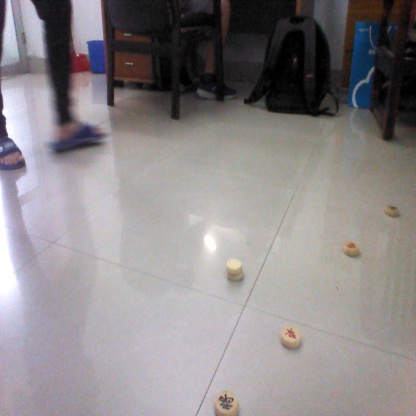chess: (381, 197, 402, 221), (215, 391, 236, 414), (224, 256, 244, 280), (280, 323, 300, 347), (342, 237, 362, 261)
